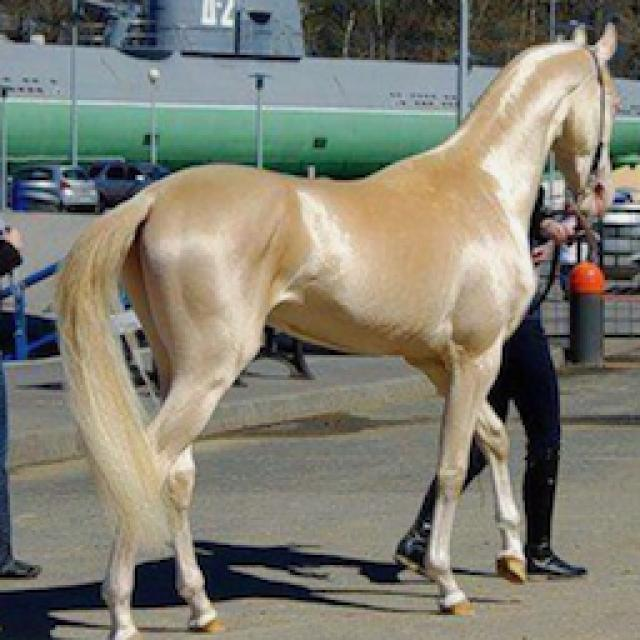Horse: (45, 18, 628, 638)
